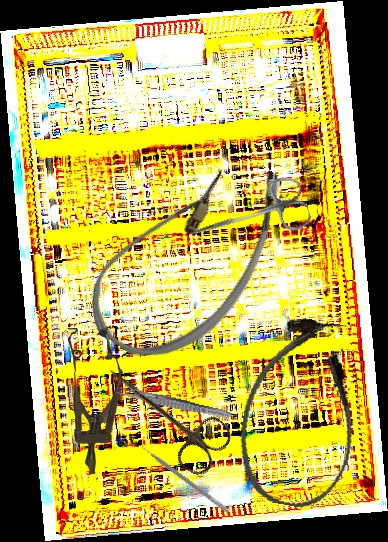Cannula: (70, 123, 309, 387), (229, 310, 372, 515)
Dressing Forceps: (113, 384, 233, 422)
Iris Scissors: (90, 349, 237, 480), (182, 172, 314, 263)
Spatula Surgical: (137, 440, 234, 514)
Speculum: (62, 327, 124, 475)
